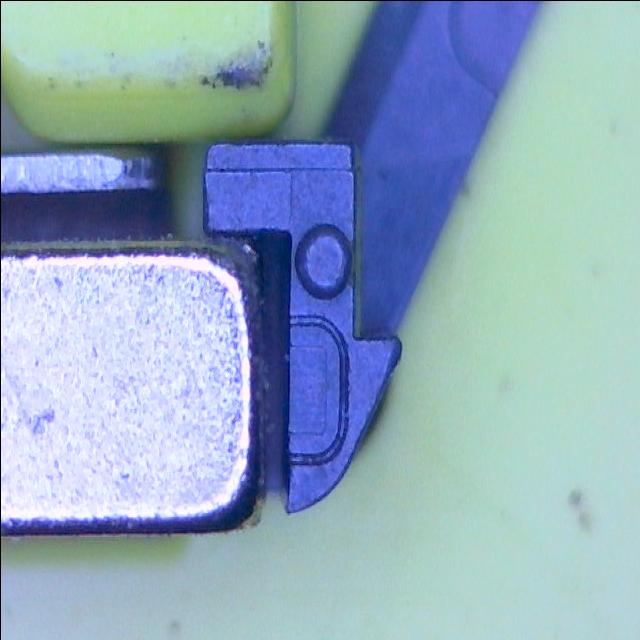noResin: (283, 311, 351, 469)
